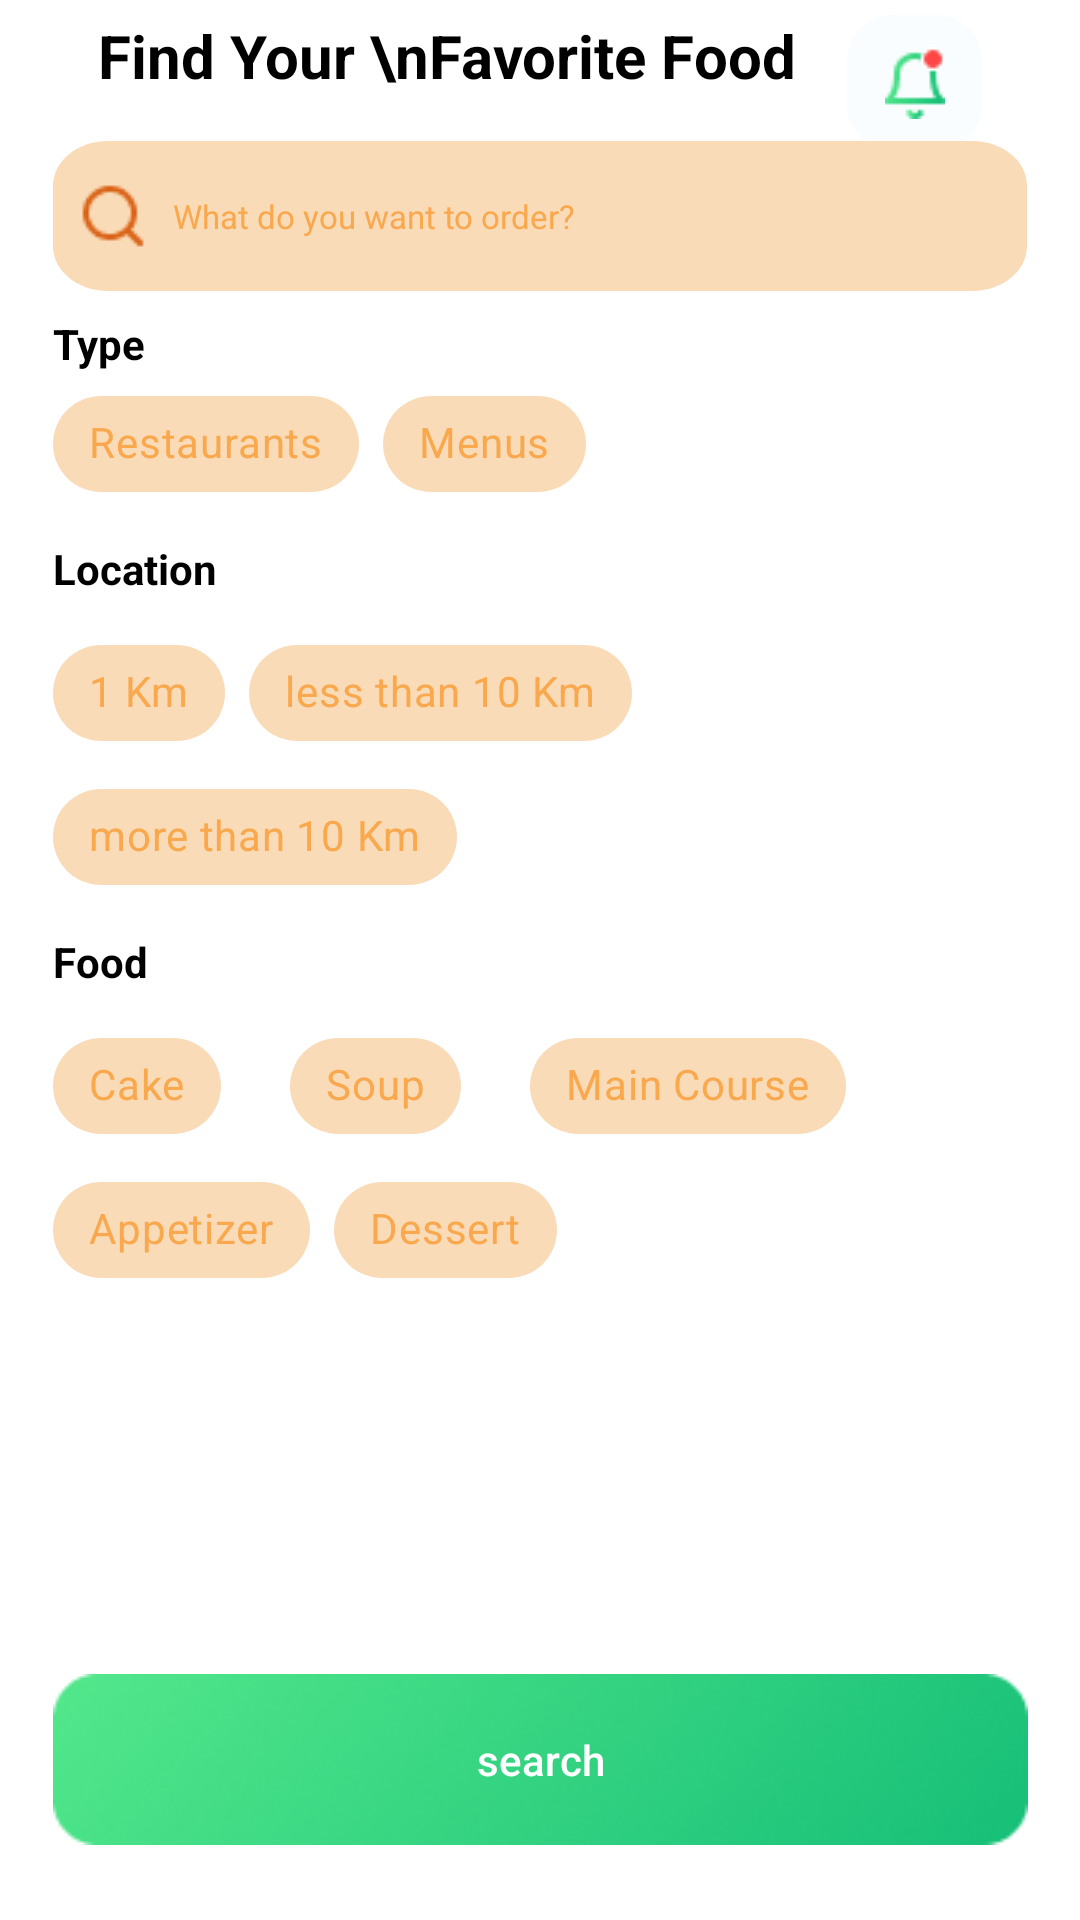

Point at icon controls on the screen. Image size 1080×1920, points as [x,y].
notifyicon: [915,84]
